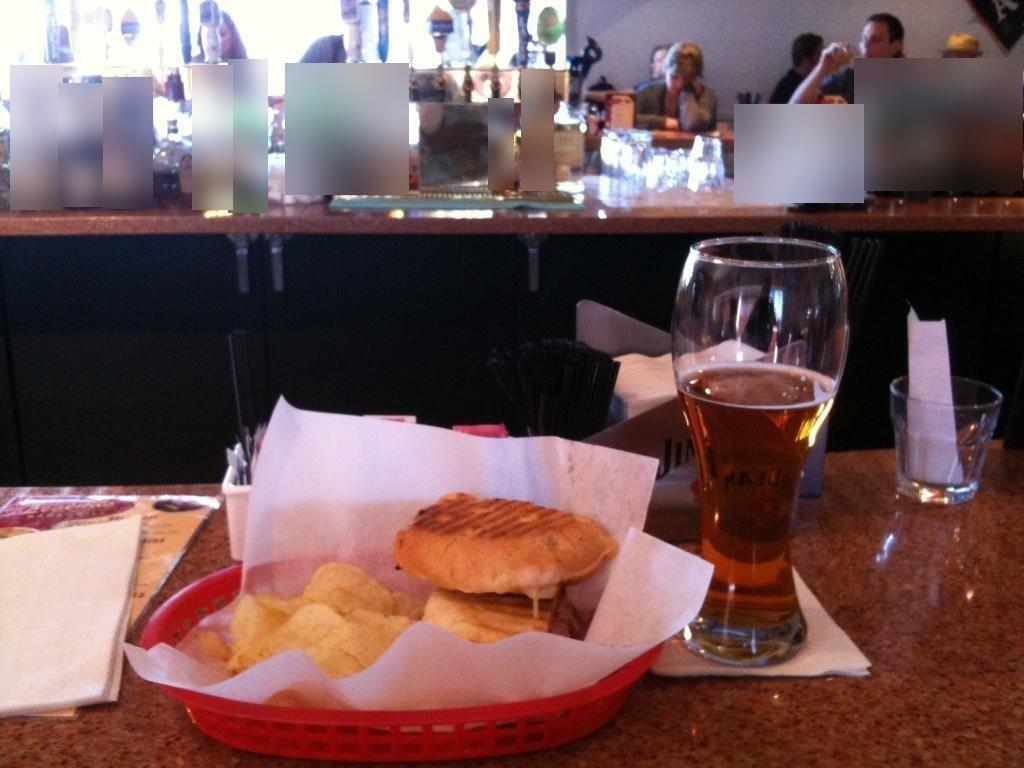glass-normal: (665, 233, 853, 666), (888, 369, 1002, 502)
